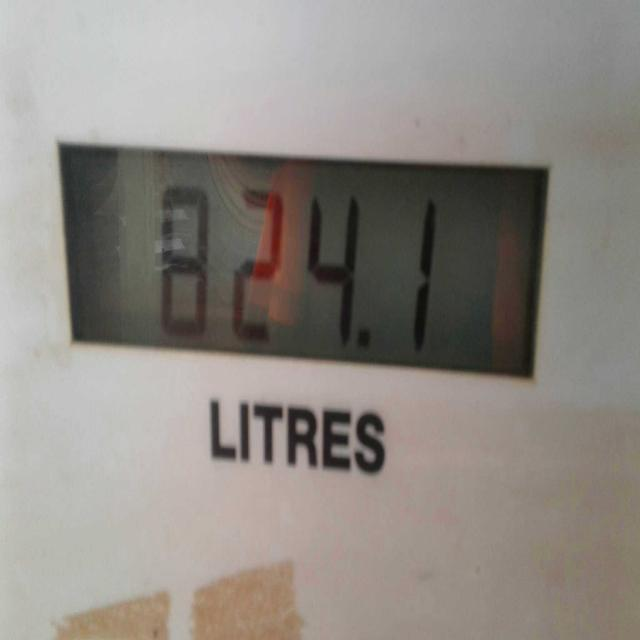.: (352, 304, 387, 370)
1: (408, 197, 458, 371)
2: (233, 178, 291, 348)
4: (302, 193, 360, 334)
8: (156, 177, 218, 354)
